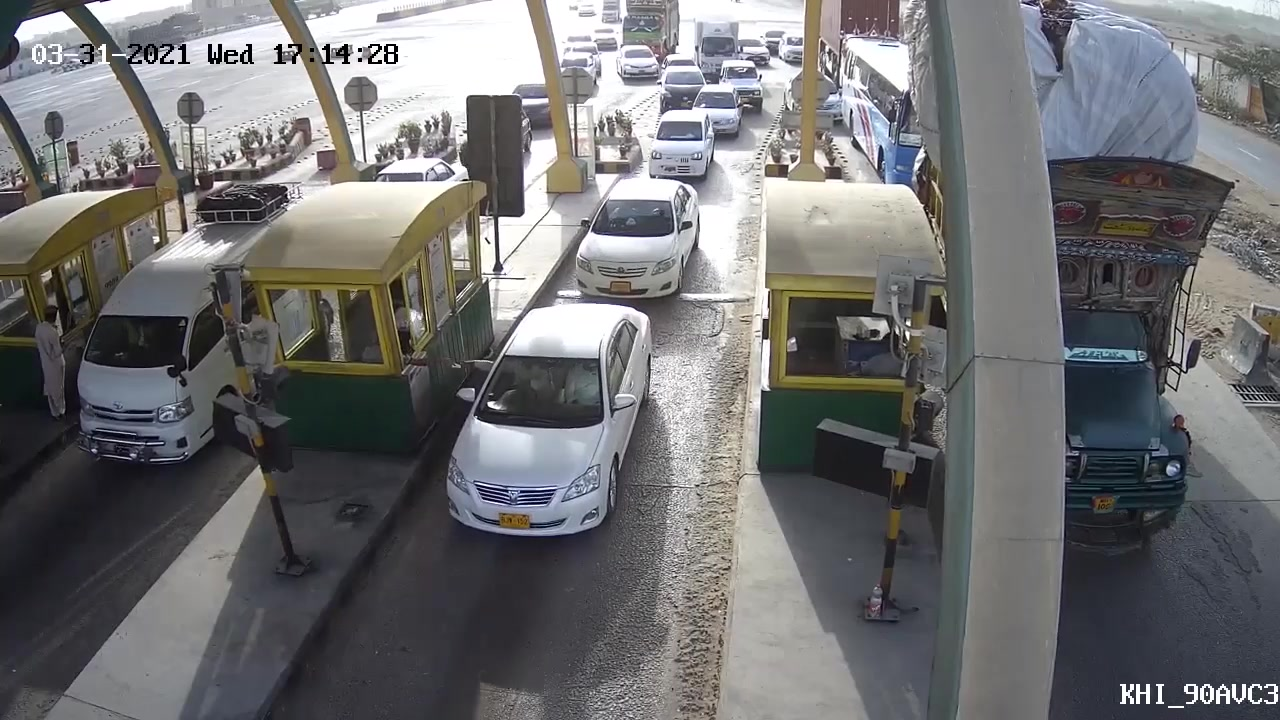F1: (434, 298, 655, 544), (562, 169, 707, 308)
